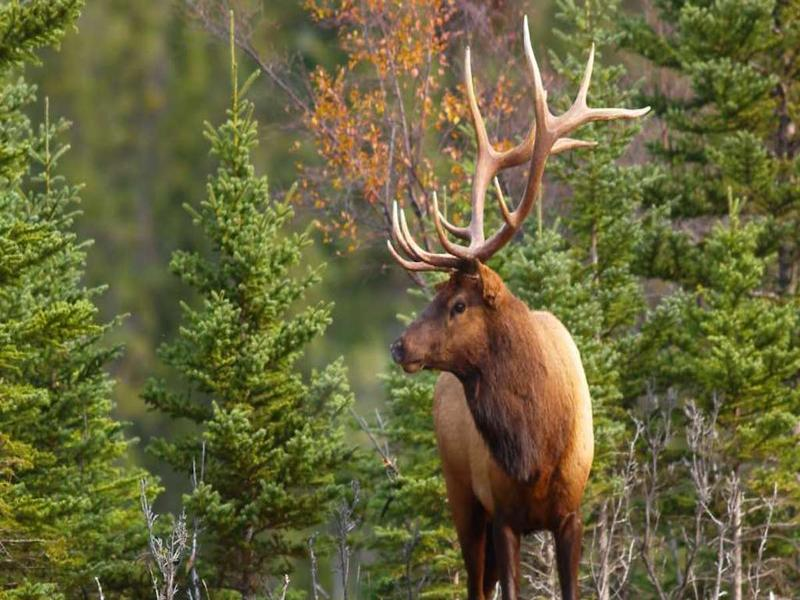elk: (385, 88, 620, 600)
